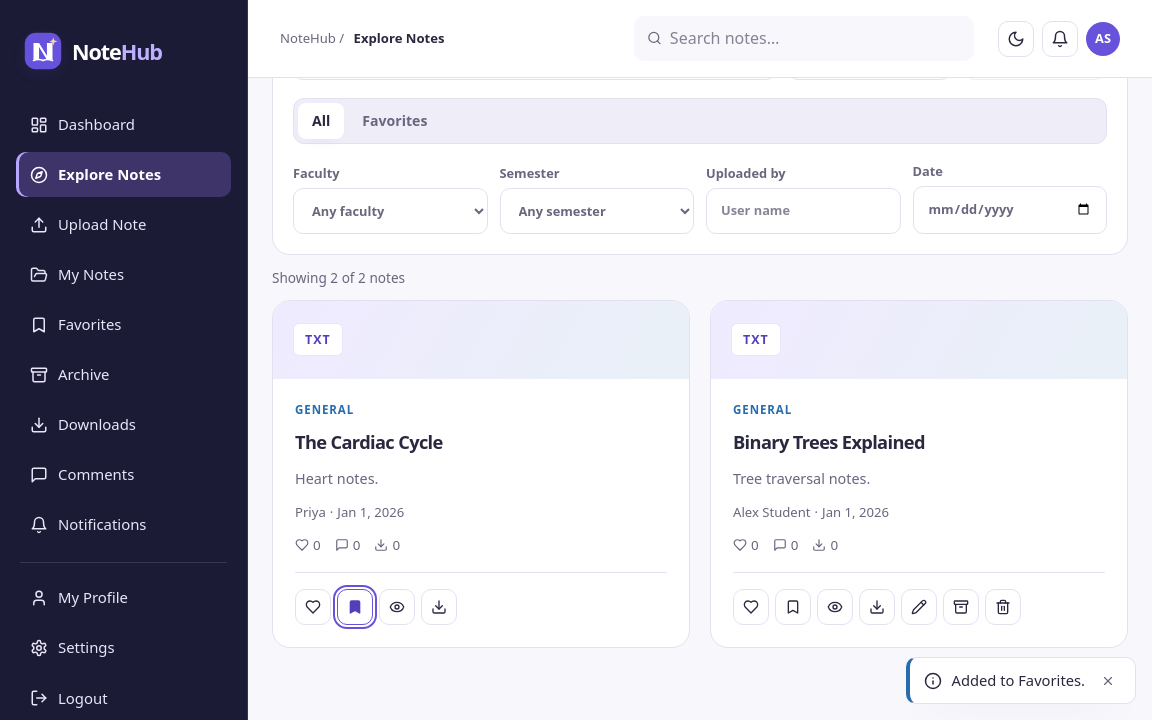
Test: asynchronous note workflows › favorites, archives and restores notes through API mutations
Earlier steps of the test are not shown.
(page scrolled)
Expected: the button named "Remove from favorites: The Cardiac Cycle" is shown, [337, 588, 373, 624]
Click the link "Favorites": (76,324) [30, 314, 122, 334]
(page scrolled)
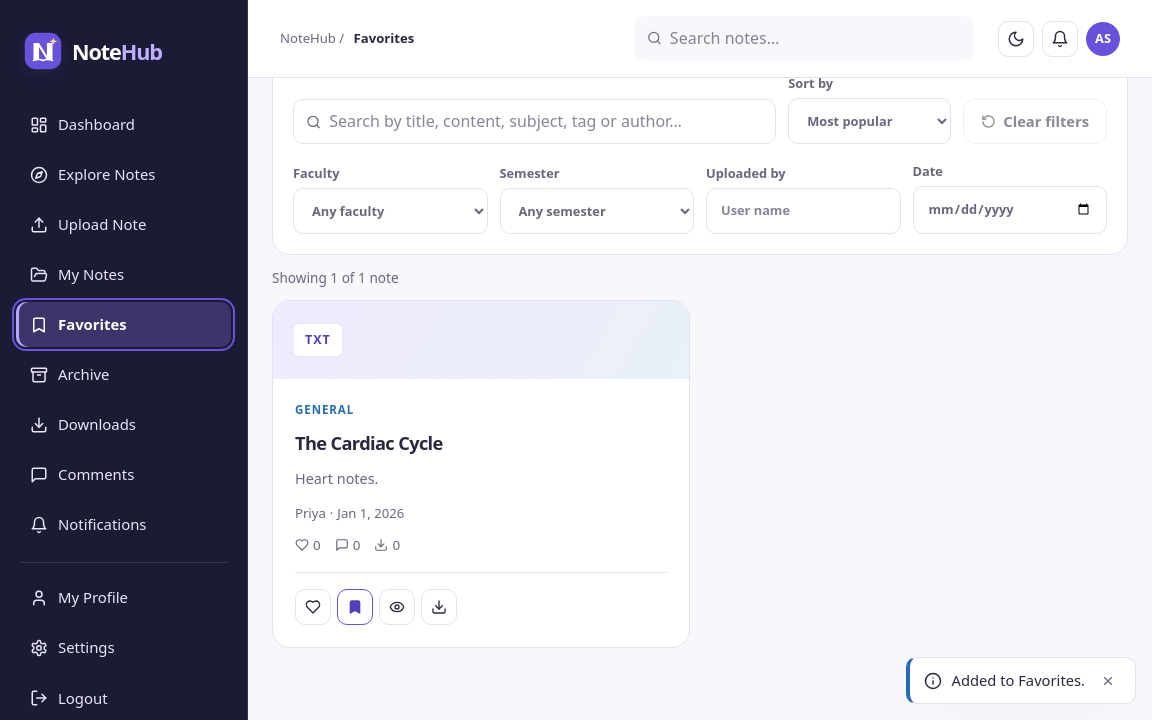
Expected: the element "The Cardiac Cycle" is shown, [272, 300, 690, 648]
Click the link "My Notes": (77,274) [30, 264, 124, 284]
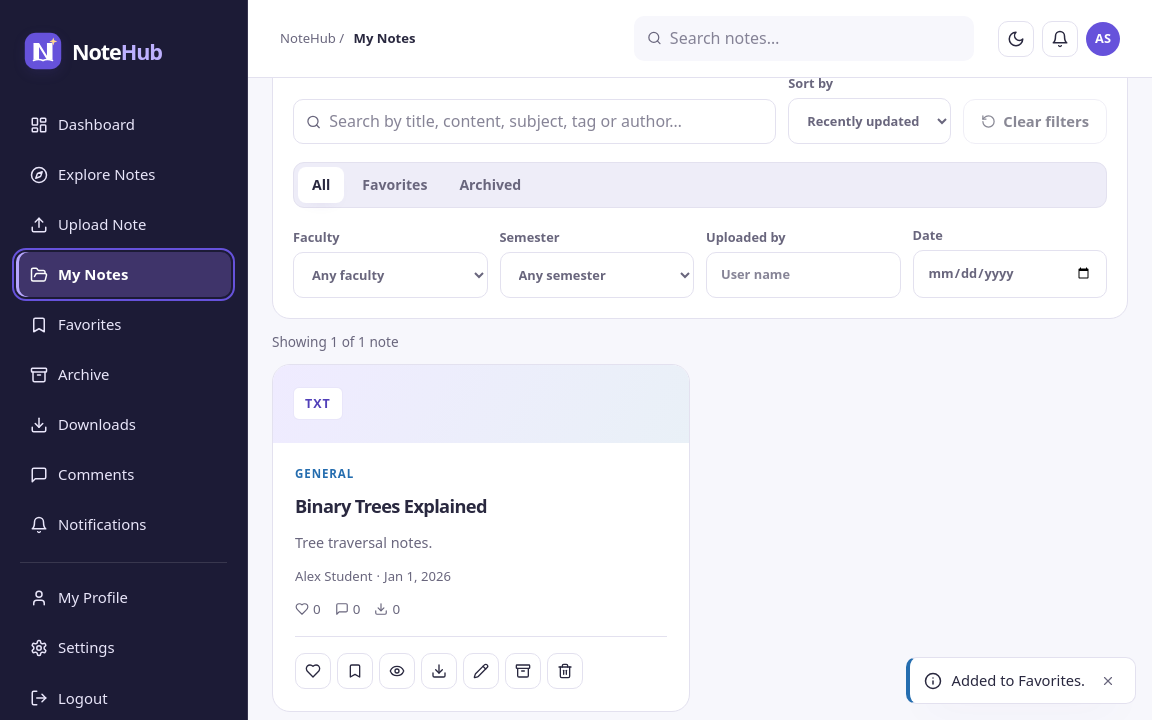
Click the button named "Archive Binary Trees Explained": (523,670) [505, 652, 541, 688]
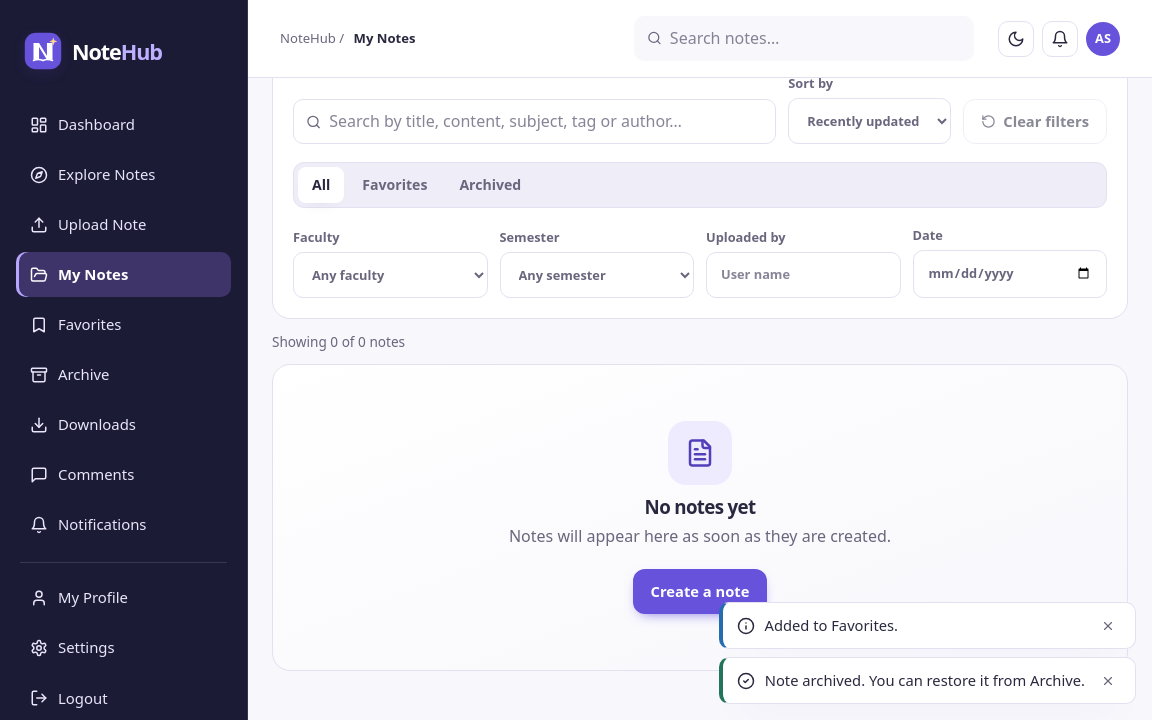
Result: the link "Binary Trees Explained" is gone
Click the link "Archive": (70,374) [30, 364, 110, 384]
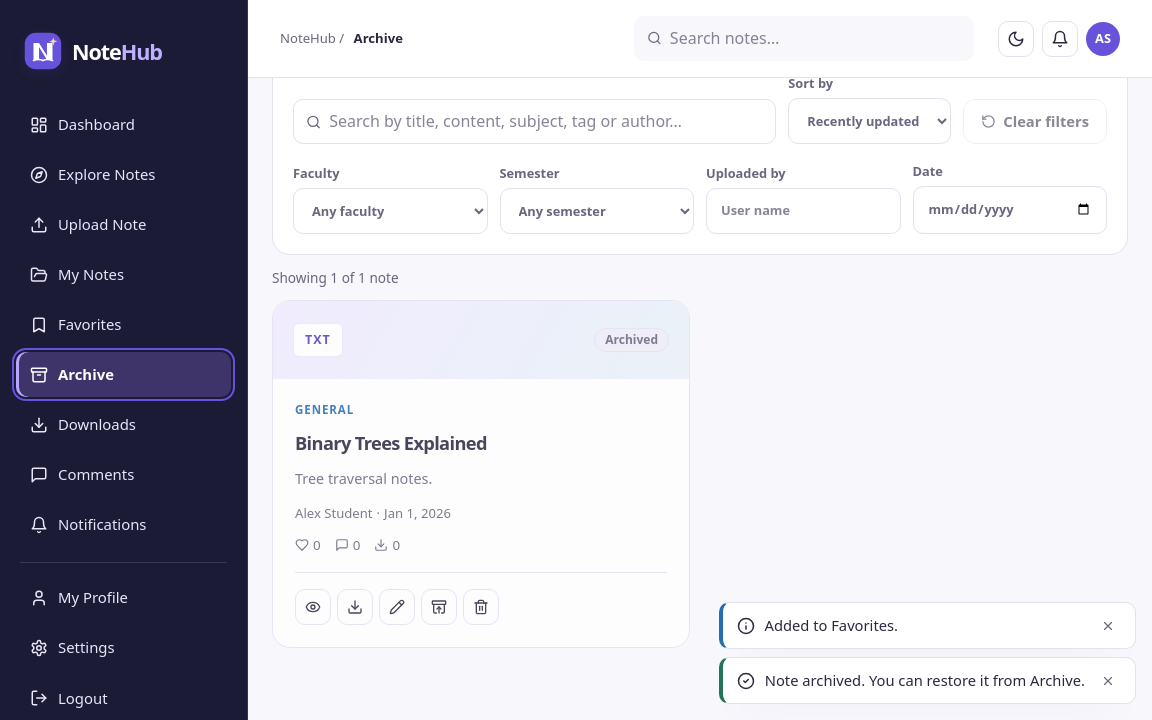
Click the button named "Restore Binary Trees Explained": (439,607) [421, 589, 457, 625]
(page scrolled)
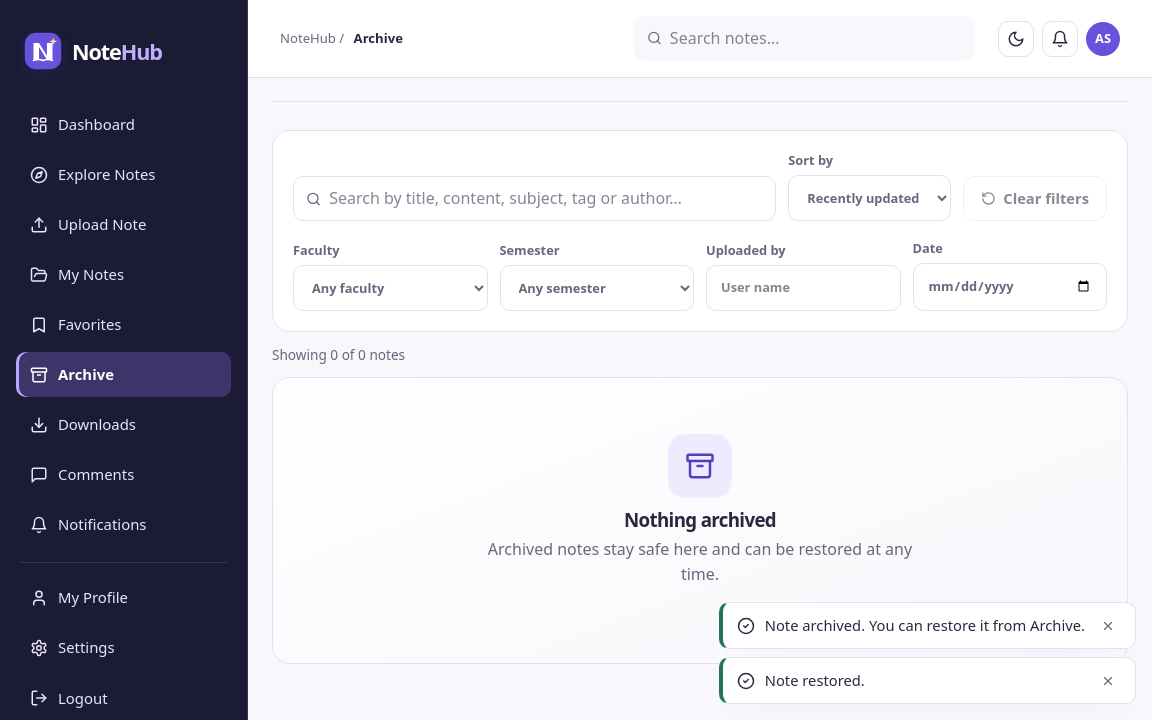
Click the link "My Notes": (77,274) [30, 264, 124, 284]
(page scrolled)
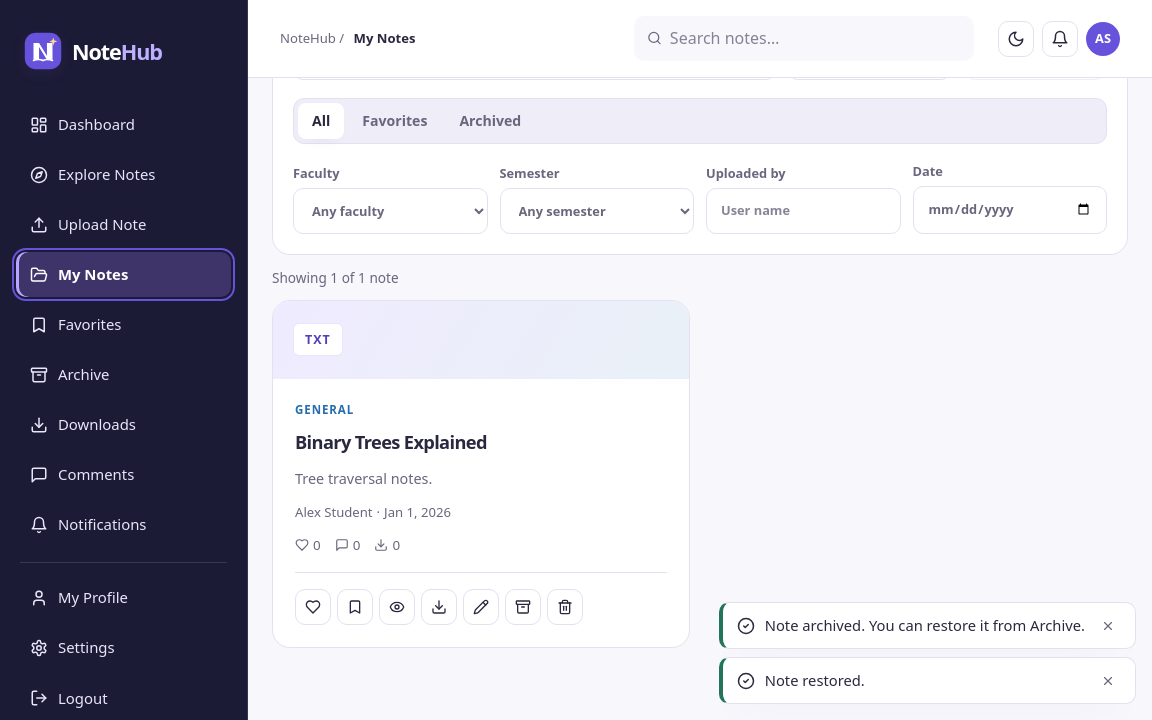
Result: the element "Binary Trees Explained" is shown at [272, 300, 690, 648]
